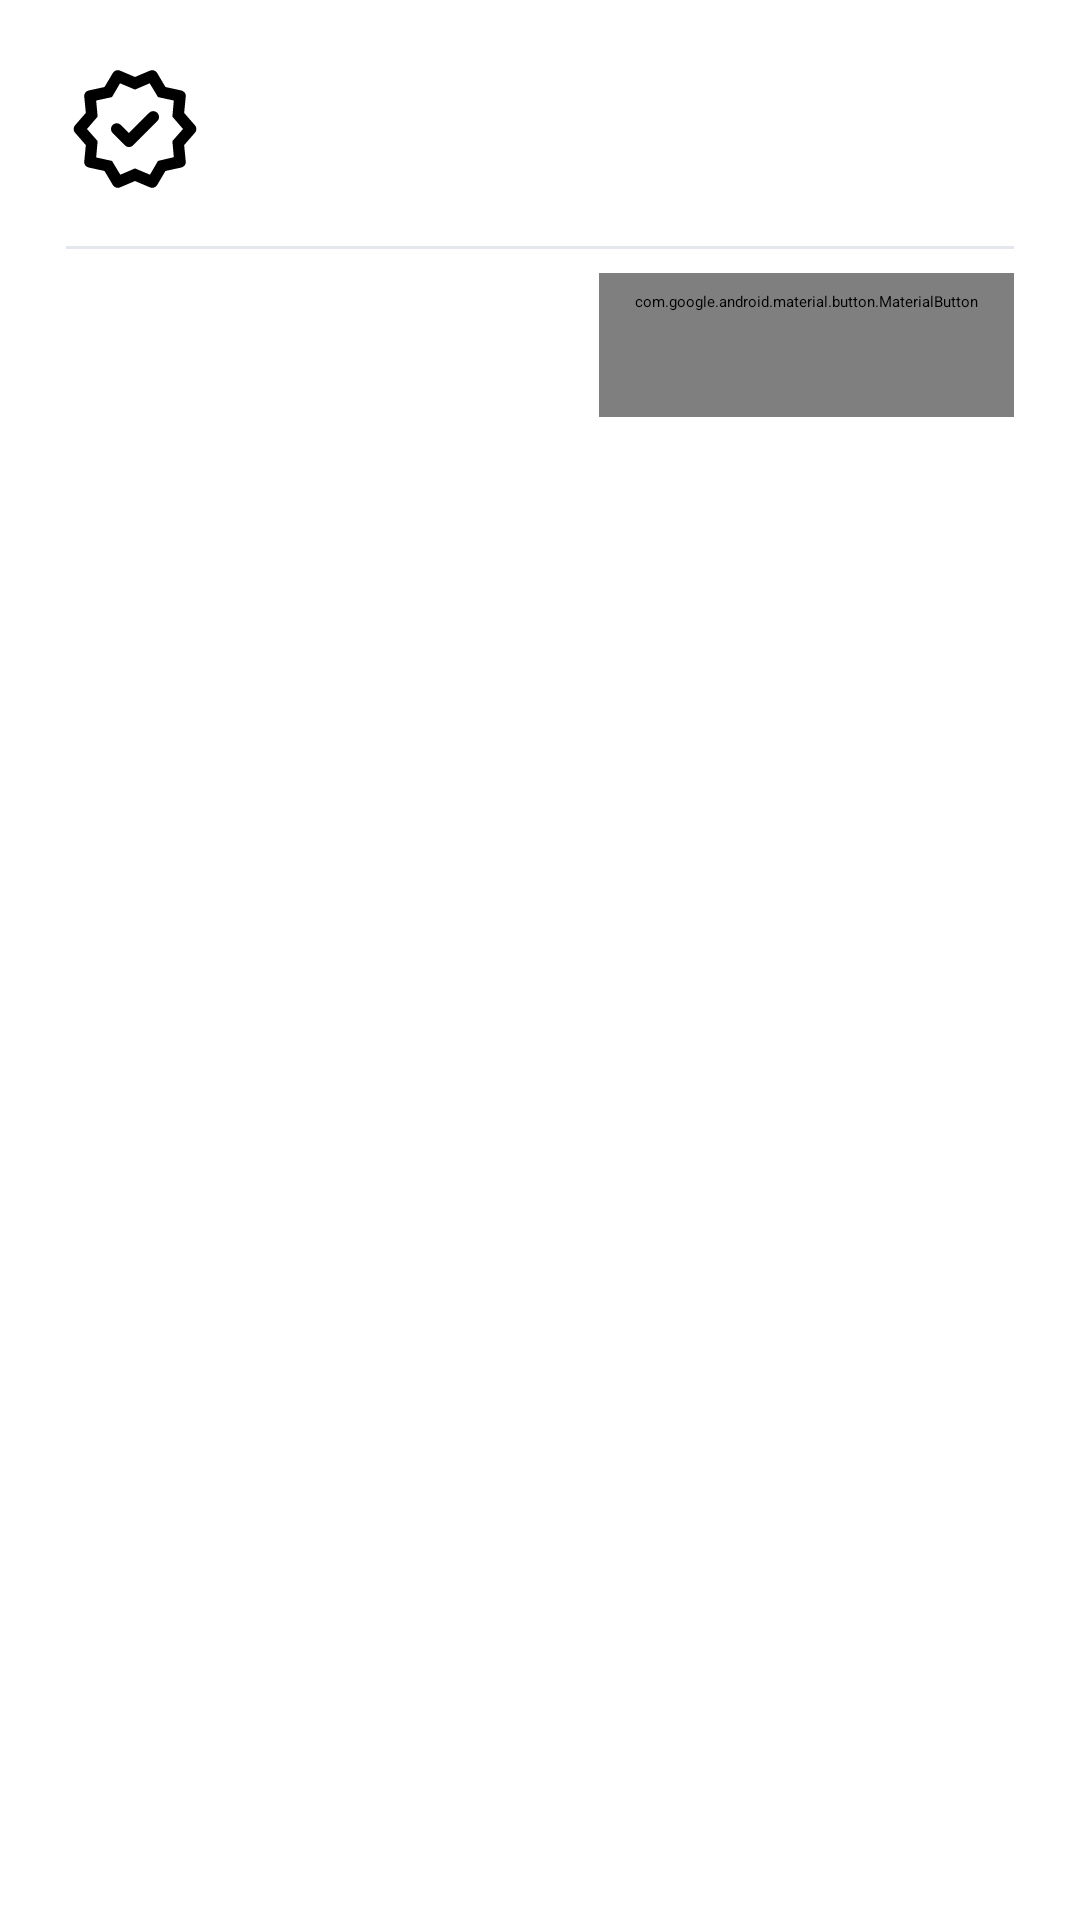

Icon bounding boxes for this 1080 x 1920 phone screenshot, format (x1=x1, y1=y1, x2=x2, y2=y2):
Verify signature: (x1=73, y1=70, x2=197, y2=188)
